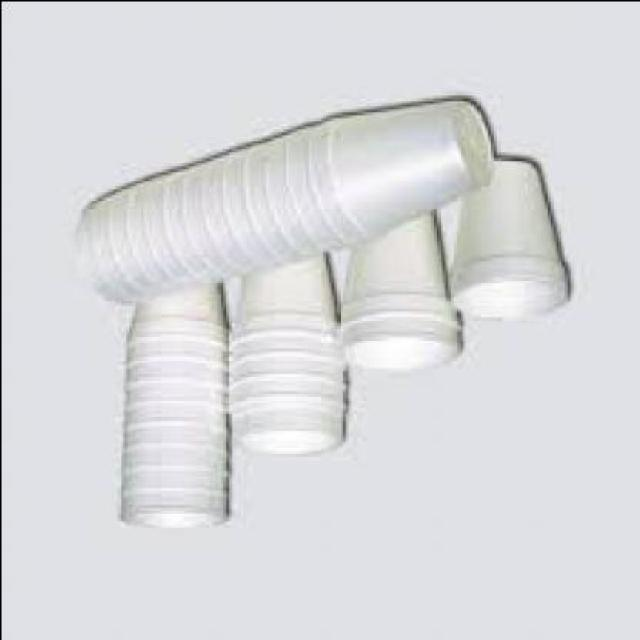PAPER: (68, 94, 489, 308), (298, 99, 490, 253), (113, 288, 224, 529), (225, 250, 348, 458), (338, 207, 462, 370), (446, 158, 569, 322), (336, 207, 456, 330), (224, 256, 336, 347), (123, 290, 225, 353)
